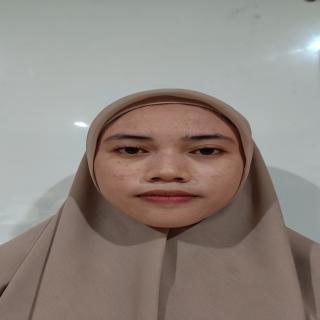Netral: (87, 94, 255, 231)
